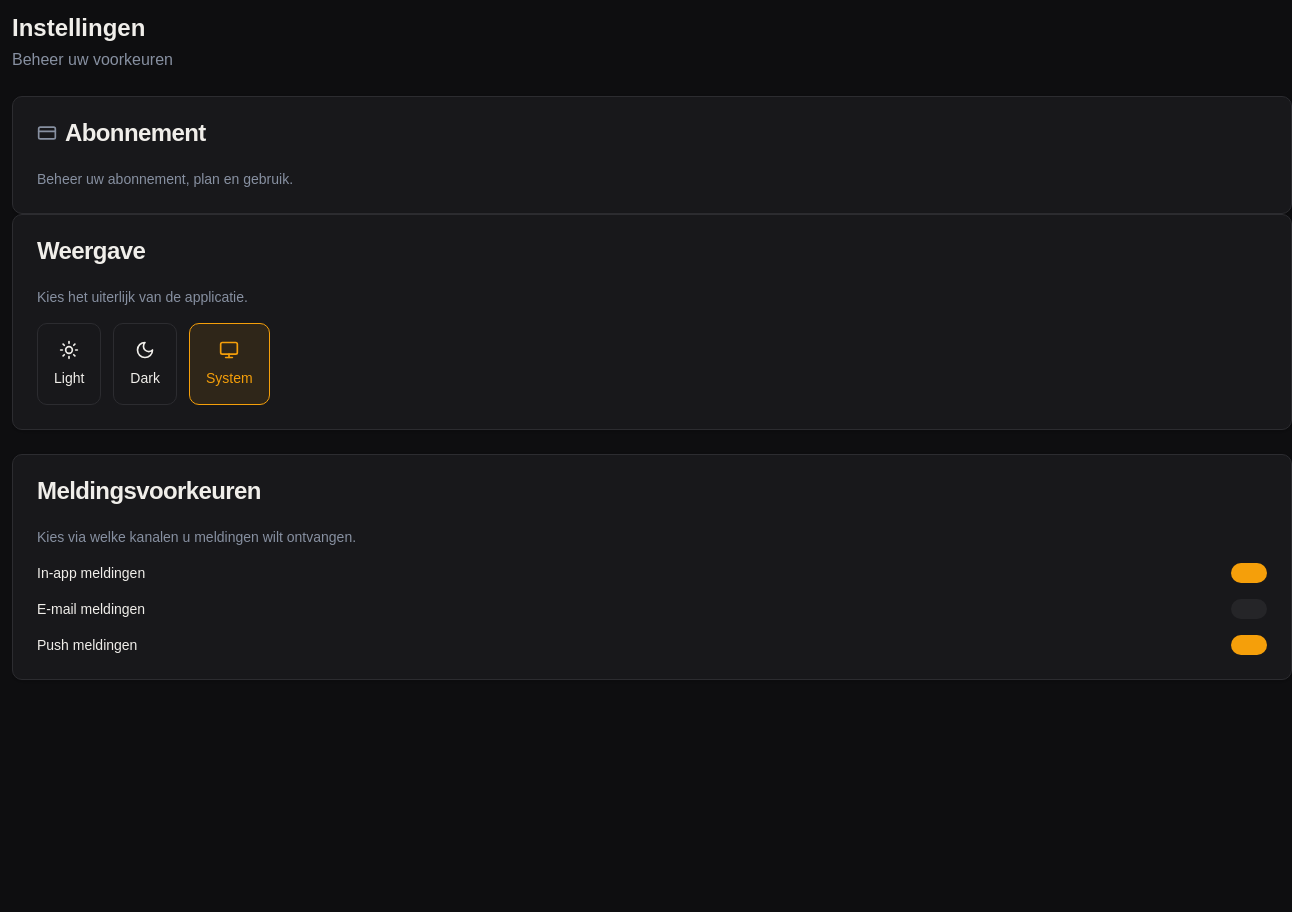
Test: Notification settings — SettingsPage › shows error feedback when save fails
Click the switch labelled "Push meldingen": (1249, 645) [1231, 635, 1267, 655]
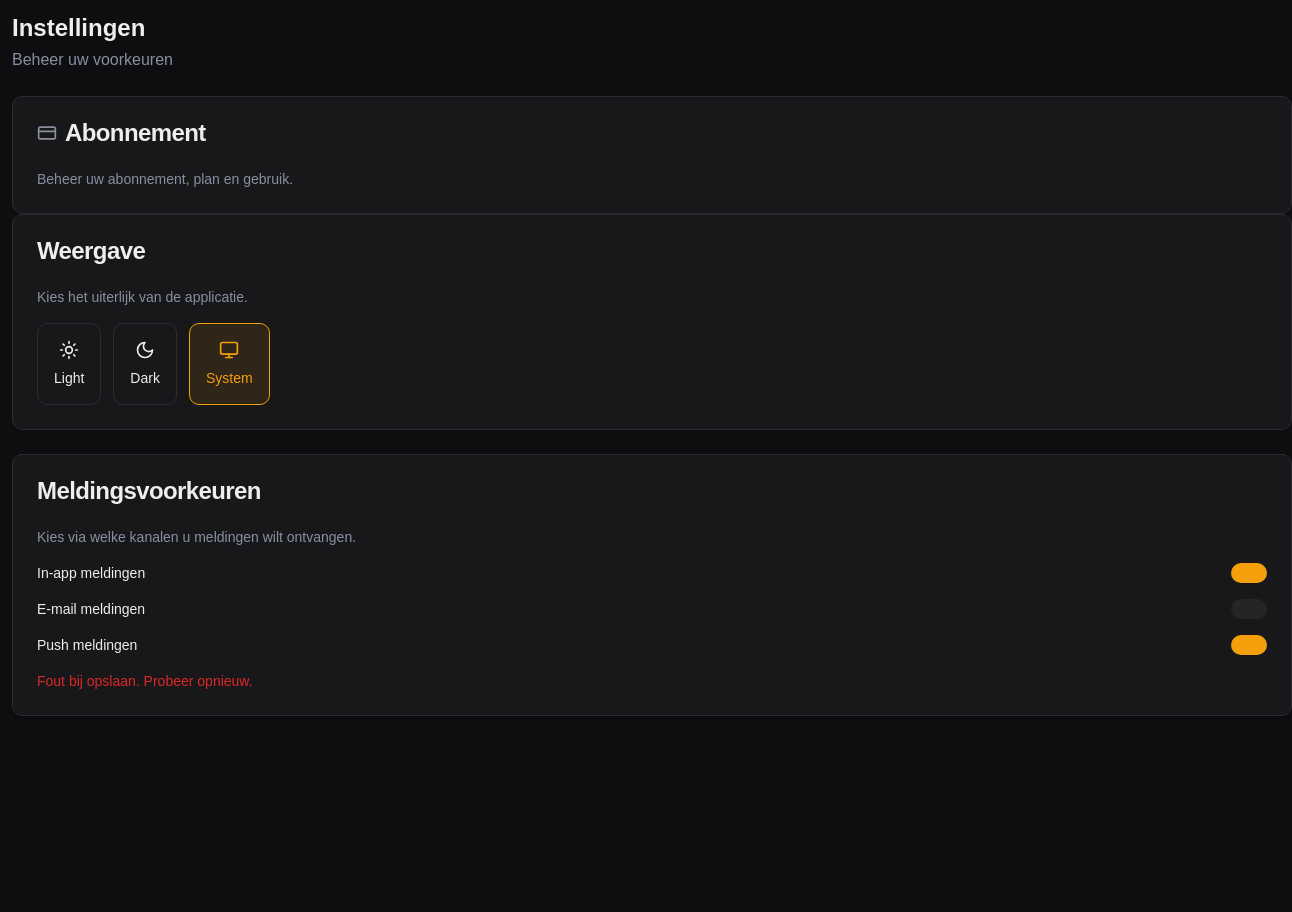
Check: the text "Fout bij opslaan. Probeer opnieuw." is shown, box [37, 673, 253, 689]
